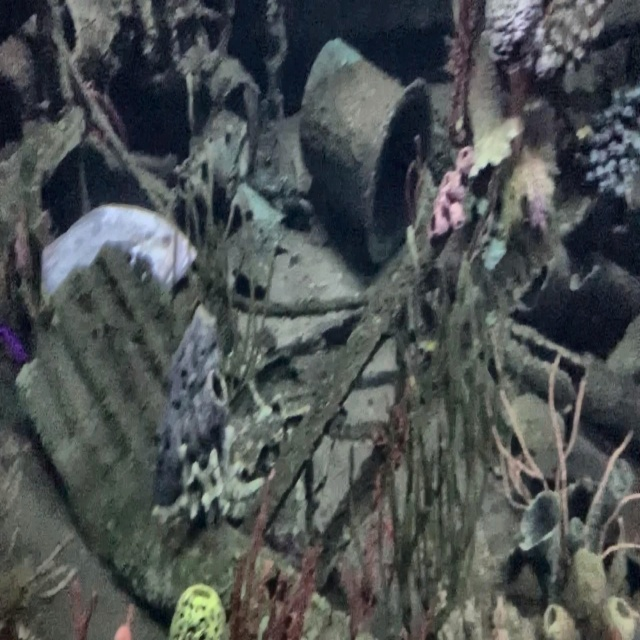fish: (38, 205, 198, 311)
